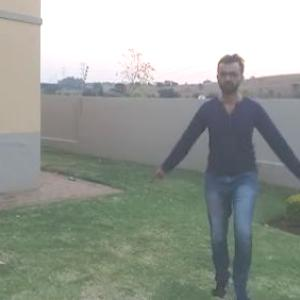land: (155, 50, 299, 299)
